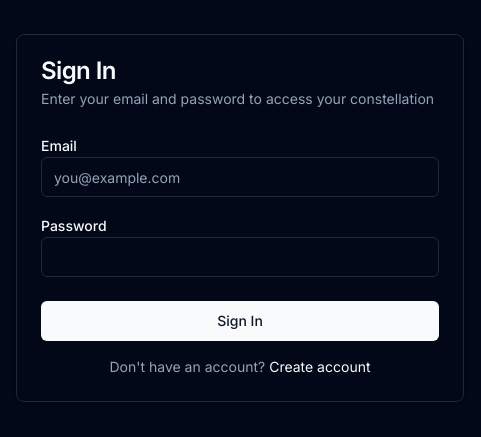
Scenario: Login Page › should show error on failed login
Type "test@example.com" into the field labelled "Email" at (240, 177), box [41, 157, 439, 197]
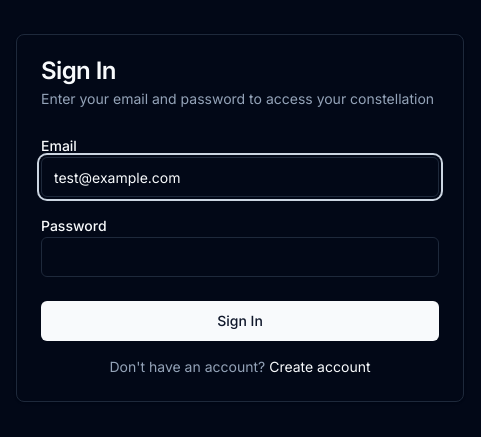
Type "wrongpassword" into the password field labelled "Password" at (240, 257), box [41, 237, 439, 277]
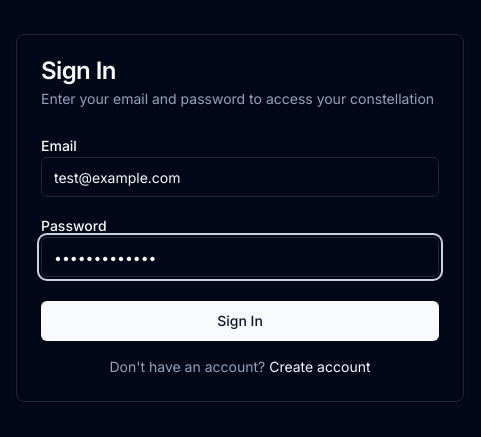
Click the button "Sign In" at (240, 321), box [41, 301, 439, 341]
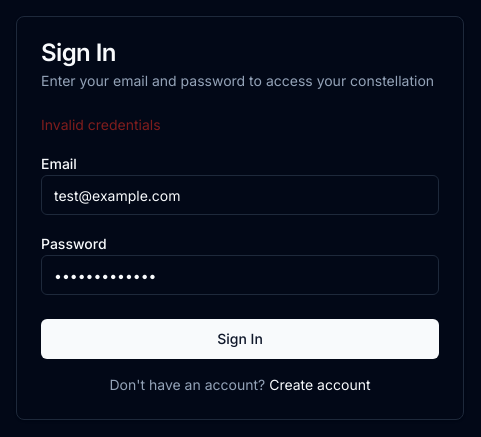
Result: the text "Invalid credentials" is shown at [41, 116, 161, 133]
